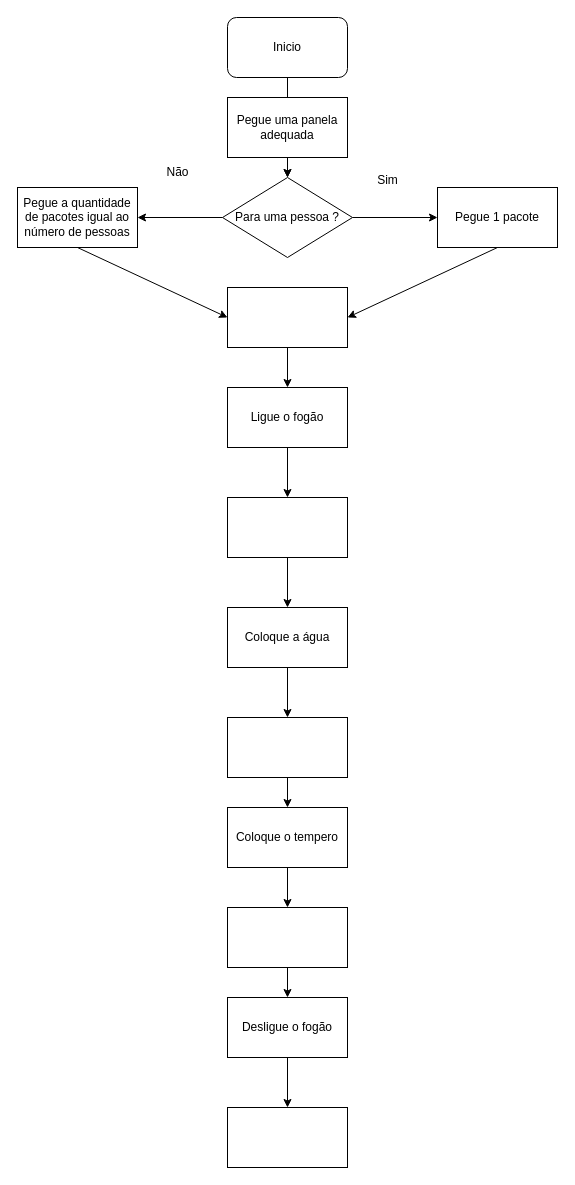
The diagram is 575 pixels wide and 1185 high, and some of its shapes have lost their labels. The shapes that lost their labels are listed below. From the top down, each one's centre as x and y in pixels, then its label:
At [287,317]: "Separe a porção de água".
At [287,527]: "Coloque a panela no fogão".
At [287,747]: "Coloque o macarrão (ões)".
At [287,937]: "Aguarde a água ferver".
At [287,1137]: "Sirva".
